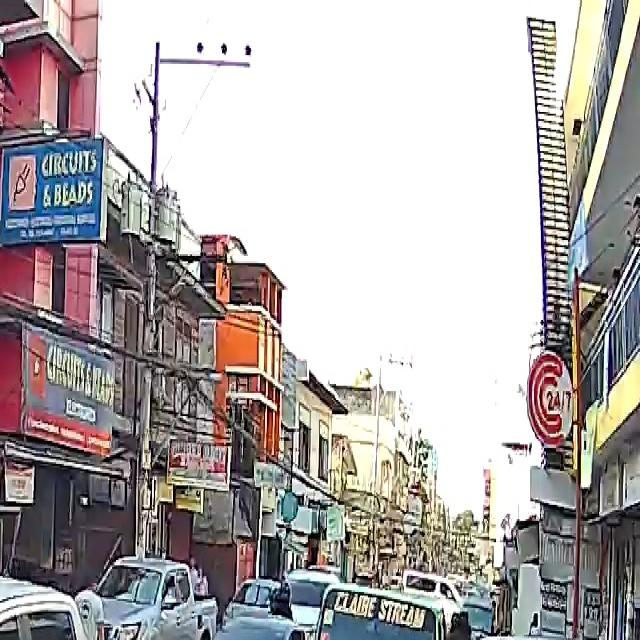car: (0, 549, 182, 640), (84, 554, 218, 640), (286, 568, 346, 626), (174, 615, 310, 640), (234, 580, 290, 616), (456, 633, 639, 640)
